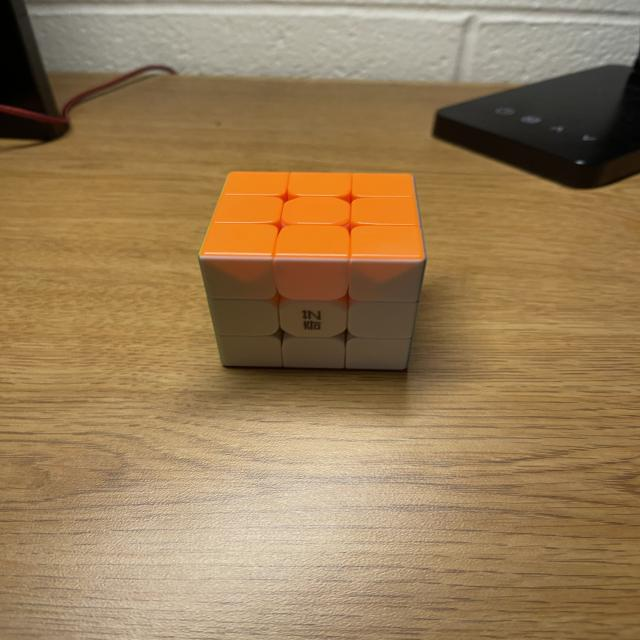Rubiks Cube: (198, 171, 423, 373)
